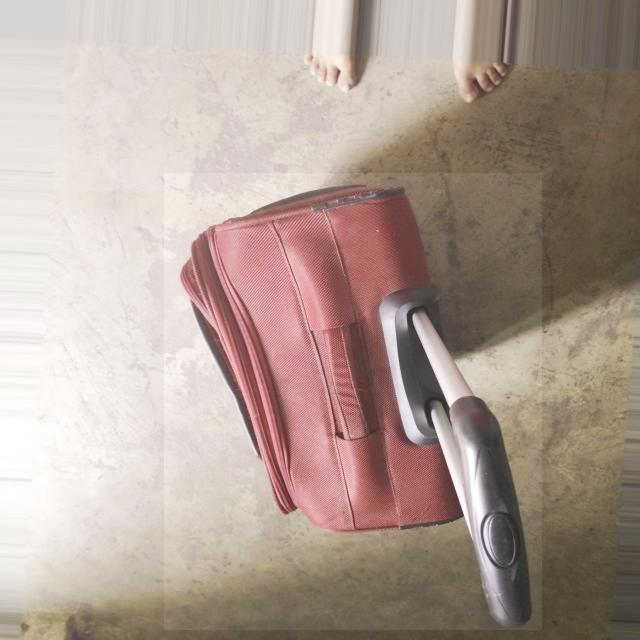Bag: (173, 169, 557, 627)
Handle: (378, 292, 532, 630)
